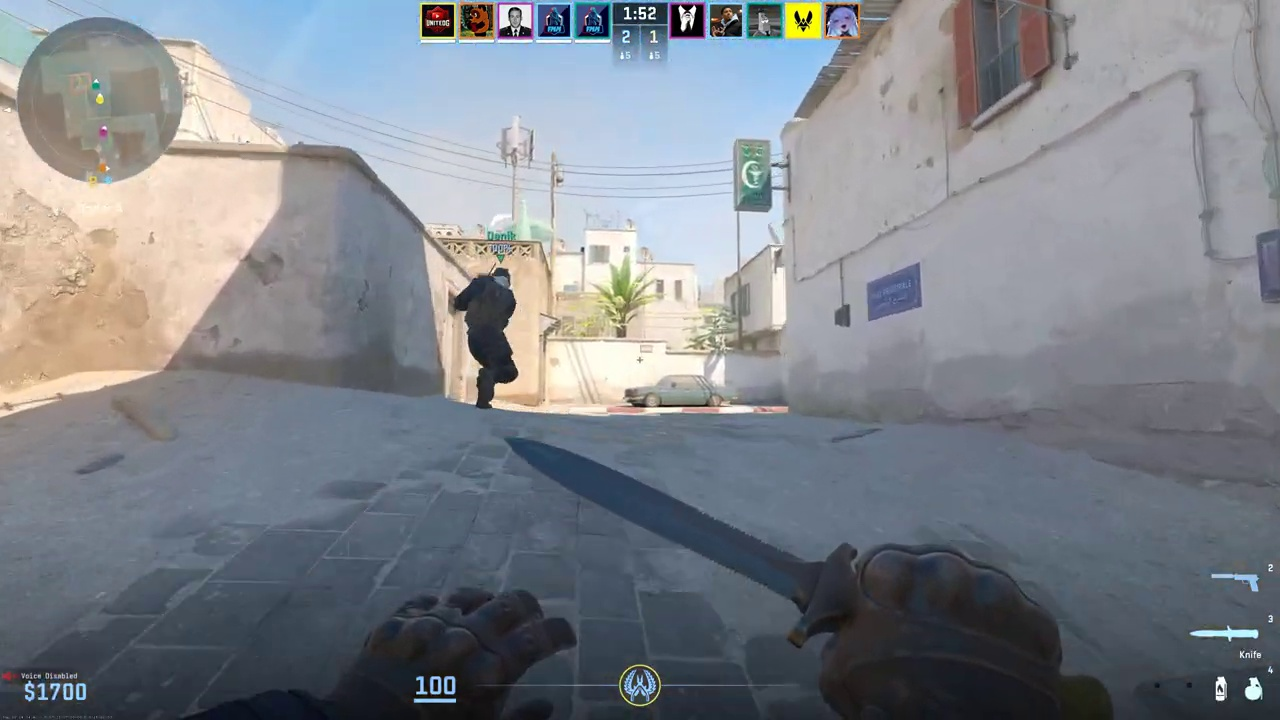CT: (459, 266, 520, 410)
